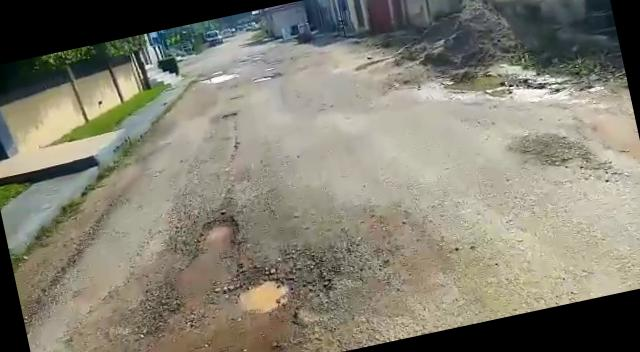pothole: (234, 275, 296, 316), (191, 214, 244, 254), (192, 70, 238, 88)
